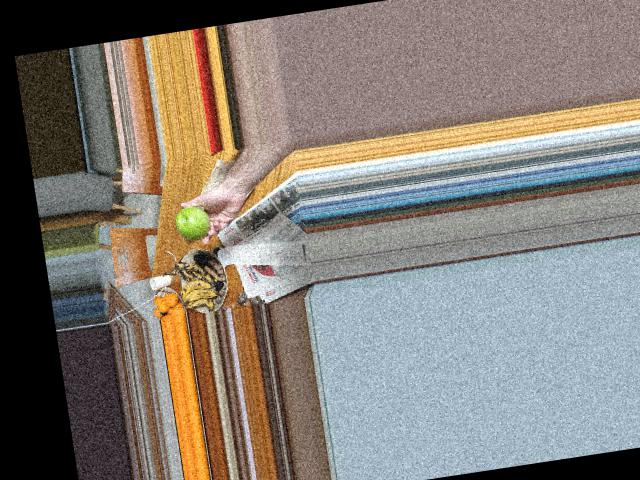apple: (169, 199, 215, 244)
